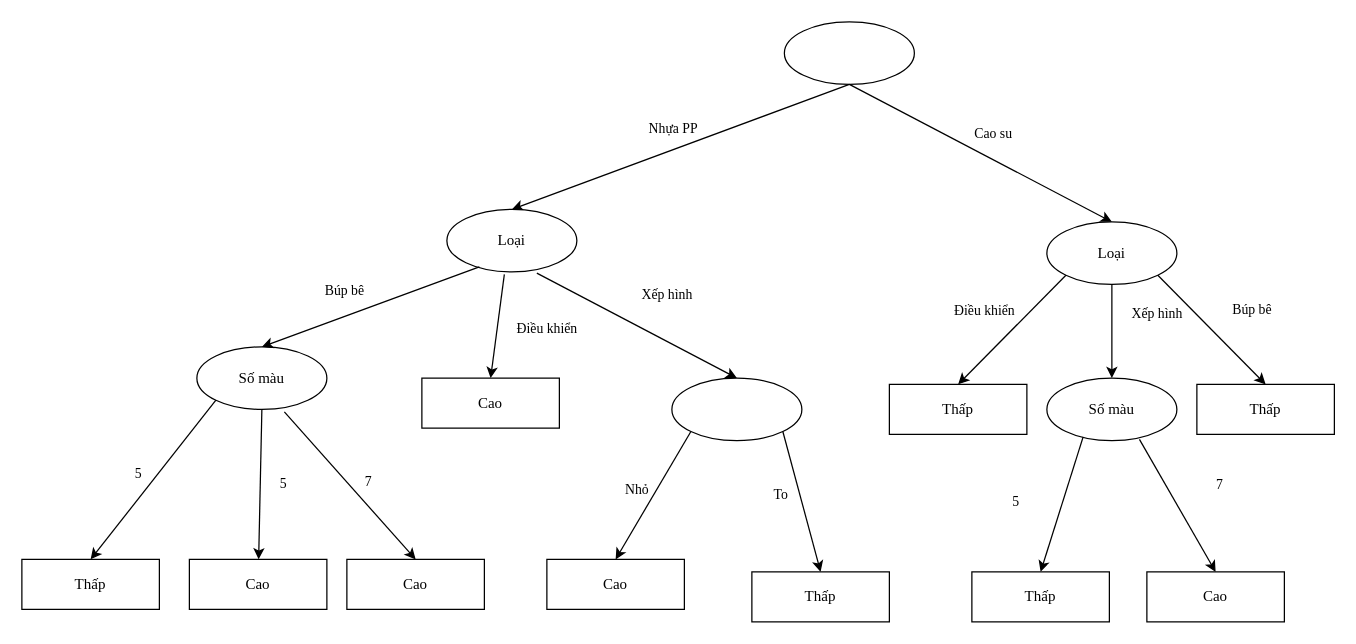
Some shapes in this 1356 by 644 pixel diagram are drawn without their labels. Here are the shapes that lost their labels. From the top down, the centre of each, then its label:
At (x=848, y=52): "Chất liệu".
At (x=736, y=409): "Kích thước".
